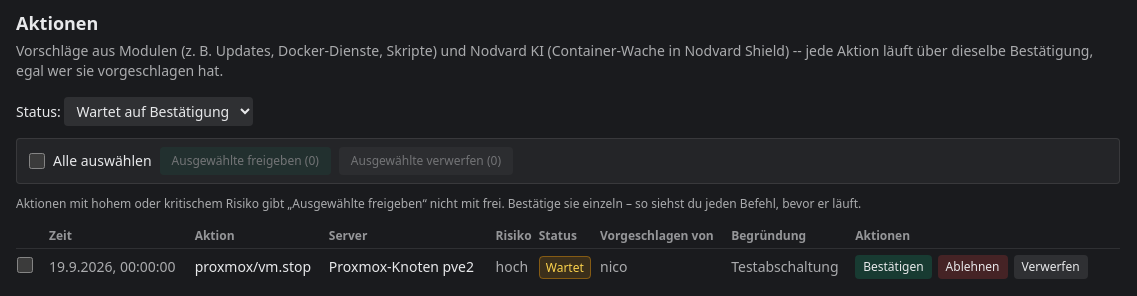
Test: ActionsPage › lädt die Liste auch nach einem Fehler neu (z. B. 409, Vorschlag abgelaufen)
What coordinates should you click on to do the following:
click the button "Bestätigen"
I would click on:
 (893, 267)
Its box is [855, 255, 932, 279].
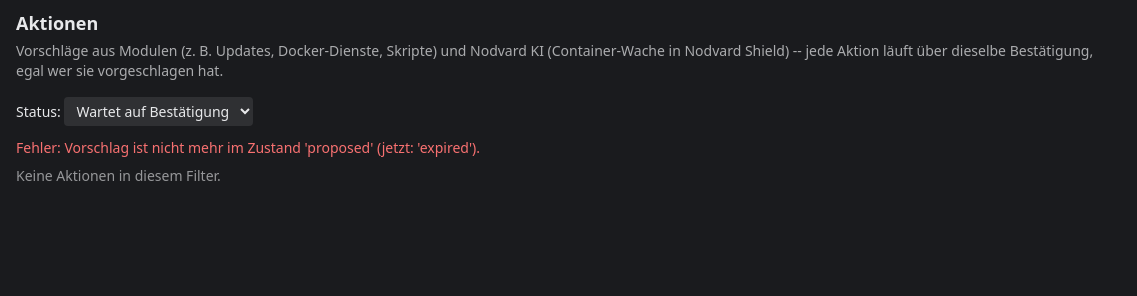
Result: the text "nicht mehr im Zustand 'proposed'" is shown at [16, 138, 480, 157]
Result: the button "Bestätigen" is gone
Result: the text "Keine Aktionen in diesem Filter." is shown at [16, 166, 221, 185]
